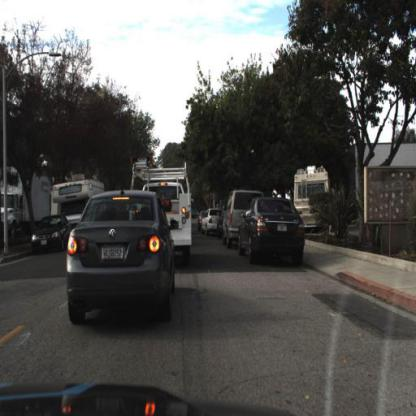car: (66, 194, 175, 323), (237, 197, 306, 266), (164, 159, 199, 271), (48, 175, 108, 224), (295, 168, 331, 230), (222, 192, 261, 245), (31, 214, 69, 252), (221, 188, 241, 253), (201, 207, 222, 235)
truck: (142, 172, 193, 255), (284, 160, 333, 239), (1, 168, 52, 232), (58, 182, 93, 239)
